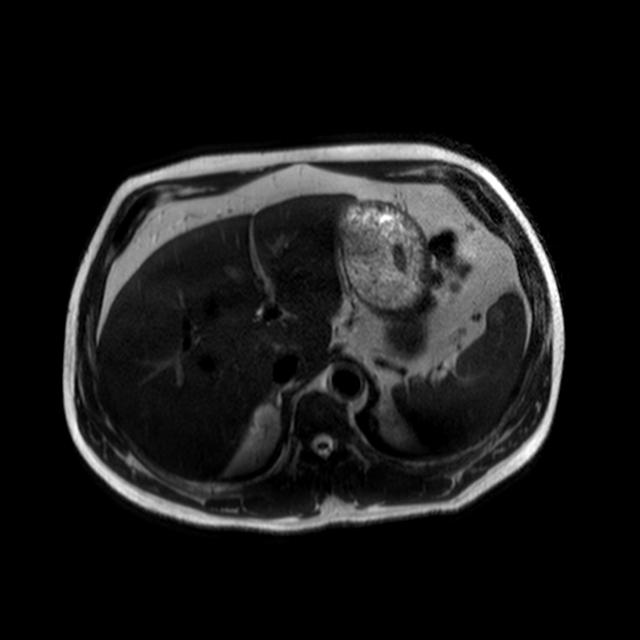sag: (248, 405, 280, 449)
sol: (377, 402, 405, 441)
